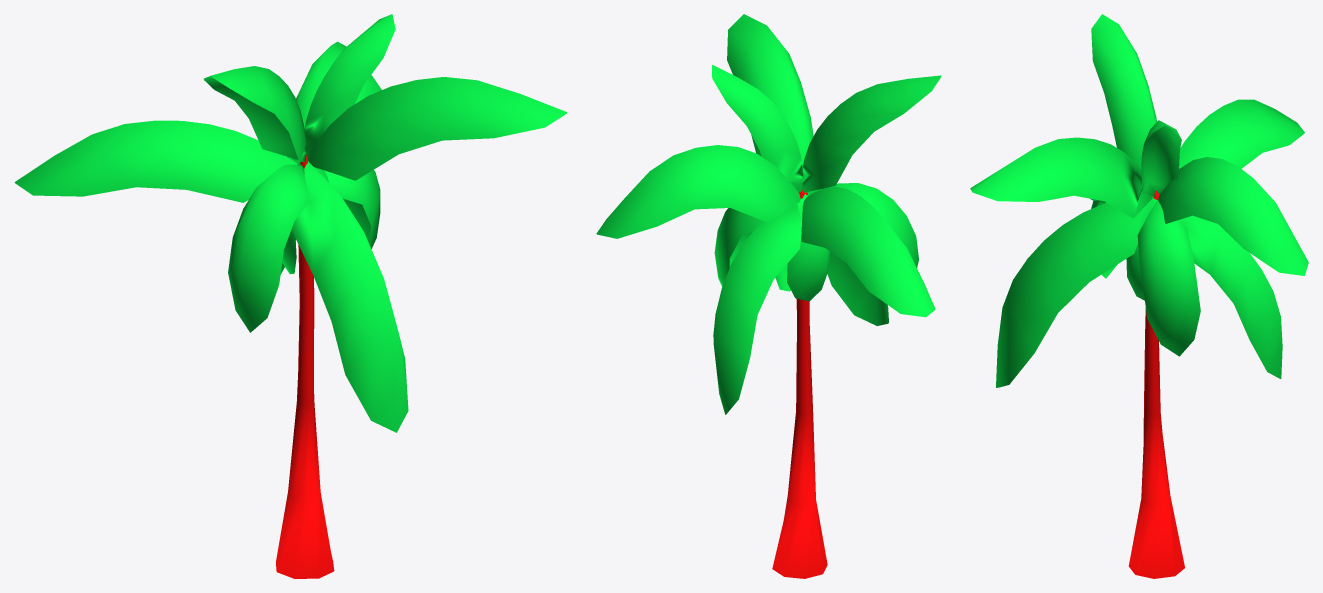
Rendered from Banana_Small_OneMesh_2018.FBX.
3 renders of one model, left to right at view 1: azimuth 30°, elevation 25°; view 2: azimuth 150°, elevation 25°; view 3: azimuth 270°, elevation 25°, orthographic. The views are drawn at different scales.
Visible parts, largest first — view 1: Banana-Small_LOD0; view 2: Banana-Small_LOD0; view 3: Banana-Small_LOD0.
Boxes of the visible parts, left/top/right/bottom form: Banana-Small_LOD0: left=14, top=14, right=566, bottom=578; Banana-Small_LOD0: left=596, top=14, right=941, bottom=578; Banana-Small_LOD0: left=970, top=14, right=1308, bottom=578.
Size of what is drawn, in the model's own units: 20.42 by 27.94 by 17.23.
